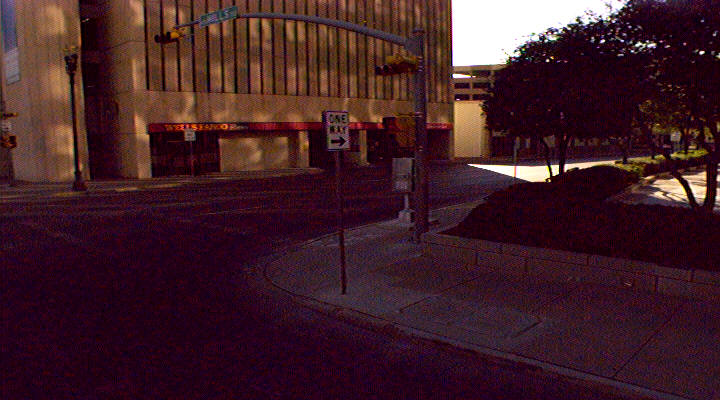Ramp: (236, 234, 389, 303)
